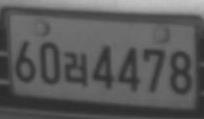0: (40, 42, 60, 84)
4: (117, 47, 141, 91), (91, 46, 114, 89)
6: (15, 41, 36, 83)
7: (142, 48, 167, 92)
8: (169, 50, 193, 94)
러: (62, 51, 87, 88)
